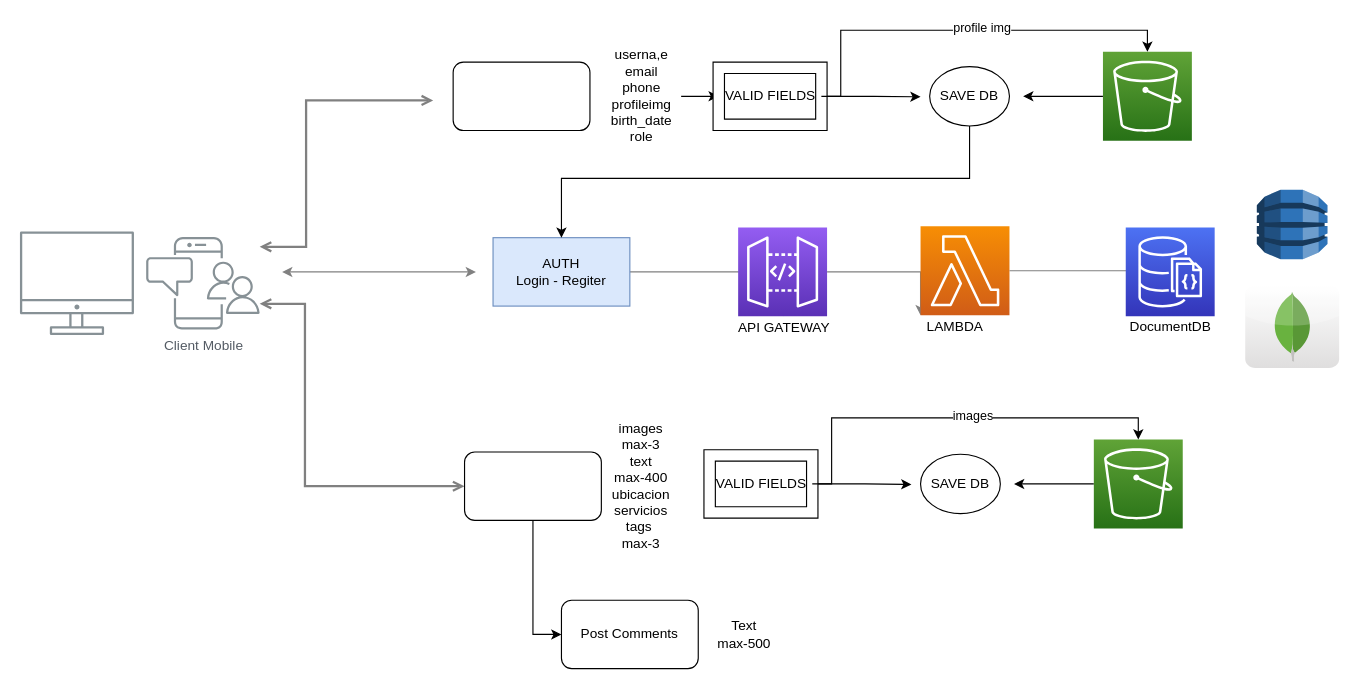
The diagram is 1359 pixels wide and 689 high, and some of its shapes have lost their labels. Each missing label, with the centre of its shape:
"AUTH Escorts client" belongs at point 521,96.
"Client Desktop" belongs at point 76,283.
"Escorts Create post" belongs at point 532,485.
